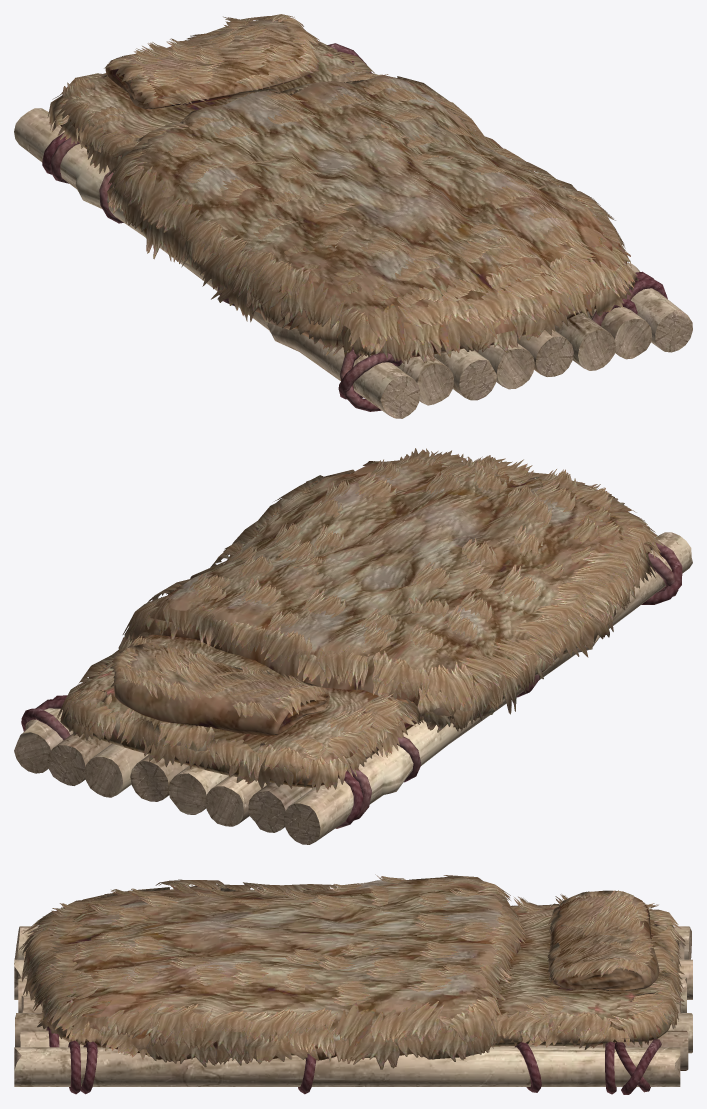
3 renders of one model, top to bottom at view 1: azimuth 30°, elevation 25°; view 2: azimuth 150°, elevation 25°; view 3: azimuth 270°, elevation 25°, orthographic. The views are drawn at different scales.
Visible parts, largest first — view 1: SM_Sleeping_Mat_01_LOD0; view 2: SM_Sleeping_Mat_01_LOD0; view 3: SM_Sleeping_Mat_01_LOD0.
Boxes of the visible parts, <box> form: SM_Sleeping_Mat_01_LOD0: <box>14,14,692,418</box>; SM_Sleeping_Mat_01_LOD0: <box>14,448,692,844</box>; SM_Sleeping_Mat_01_LOD0: <box>14,874,692,1094</box>.
Bounding box in the file's own units: 1.3 × 0.4033 × 2.25.
2 materials, 2 textured.
